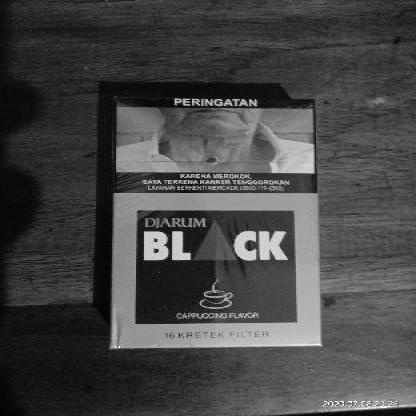objects: (111, 98, 321, 348)
